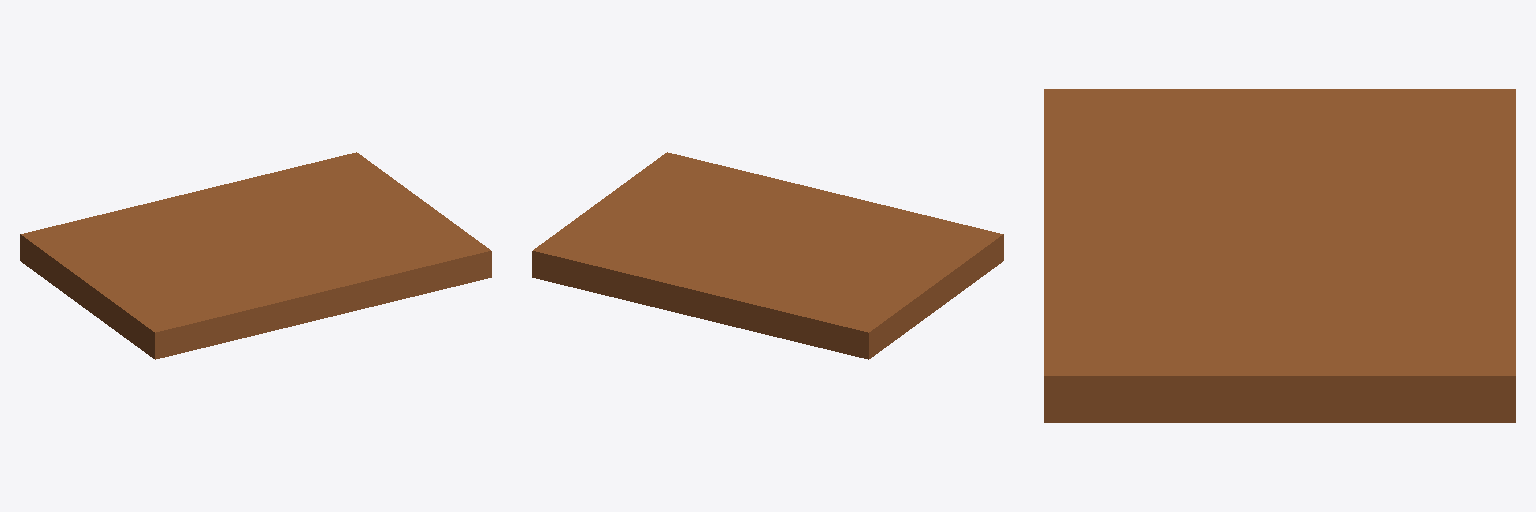
robot.urdf — g1_height_randomized_tabletop:
<?xml version="1.0"?>
<robot name="g1_height_randomized_tabletop">
  <!-- Kinematic 5 cm slab: no fixed-length legs intersect the ground at low heights. -->
  <link name="table">
    <inertial><mass value="100"/><inertia ixx="10" iyy="10" izz="10" ixy="0" ixz="0" iyz="0"/></inertial>
    <visual><geometry><box size="0.65 0.45 0.05"/></geometry><material name="wood"><color rgba="0.65 0.42 0.25 1"/></material></visual>
    <collision><geometry><box size="0.65 0.45 0.05"/></geometry></collision>
  </link>
</robot>

--- What the picture shows (computed from the rendered views, not written in the file) ---
The picture shows the robot from 3 angles, left to right: view 1: azimuth 30°, elevation 25°; view 2: azimuth 150°, elevation 25°; view 3: azimuth 270°, elevation 25°; orthographic projection.
Model g1_height_randomized_tabletop with 1 links and 0 joints (none), rooted at table, posed every joint at zero.
Visible links, largest first — view 1: table; view 2: table; view 3: table.
Link boxes in pixels (bbox=[...]): table: bbox=[20, 152, 491, 359]; table: bbox=[532, 152, 1003, 359]; table: bbox=[1044, 89, 1515, 422].
Bounding box of the posed robot: 0.65 × 0.45 × 0.05 m (x, y, z).
Geometry: primitives only (box / cylinder / sphere), no mesh files.
